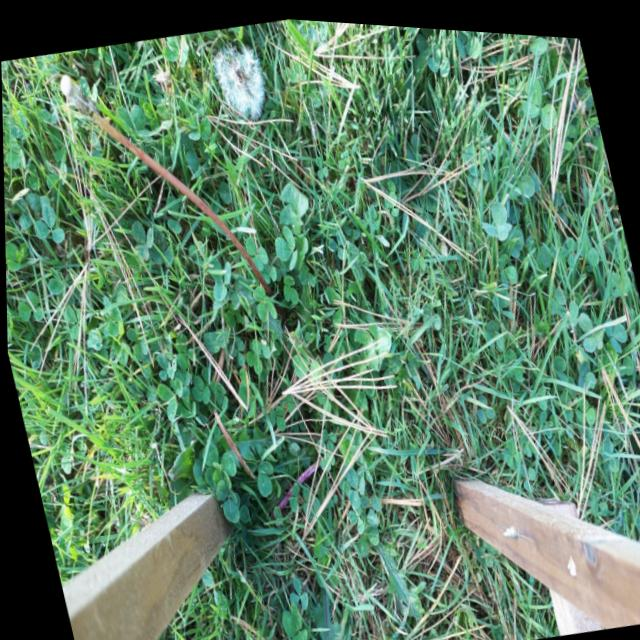base: (247, 254, 278, 304)
flower: (52, 65, 99, 128)
